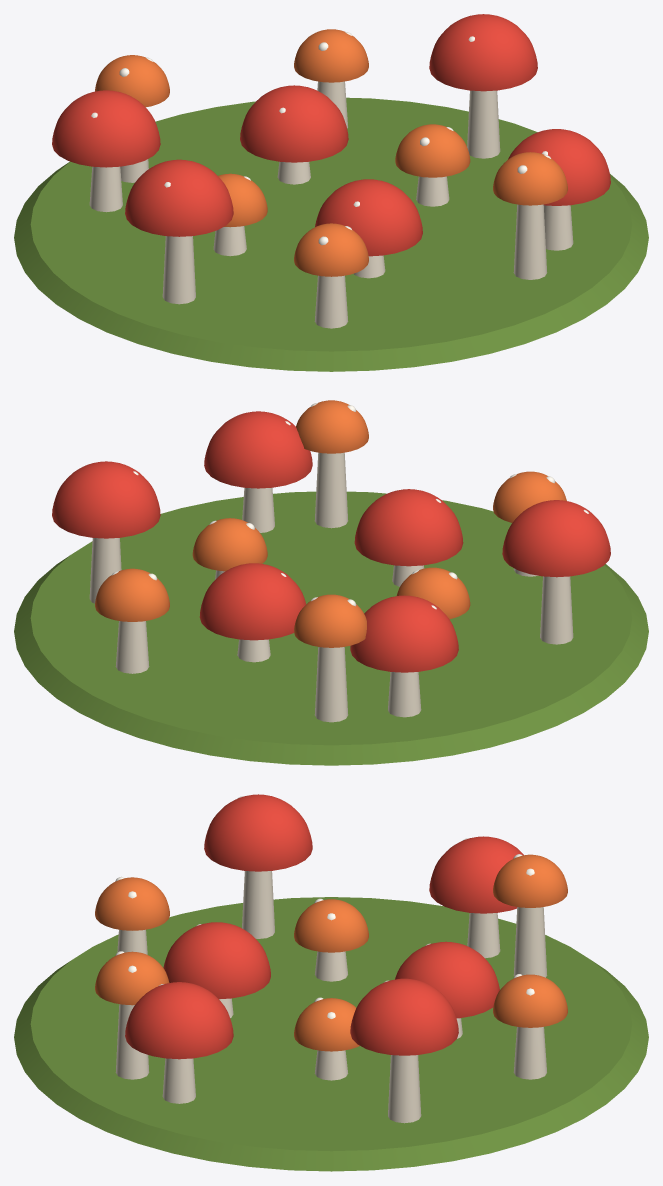
The model's file is flowers-mushroom.glb.
3 views of the same model, one above another, from view 1: azimuth 30°, elevation 25°; view 2: azimuth 150°, elevation 25°; view 3: azimuth 270°, elevation 25° (orthographic).
Size of the model in its own units: 1.52 by 0.385 by 1.52.
